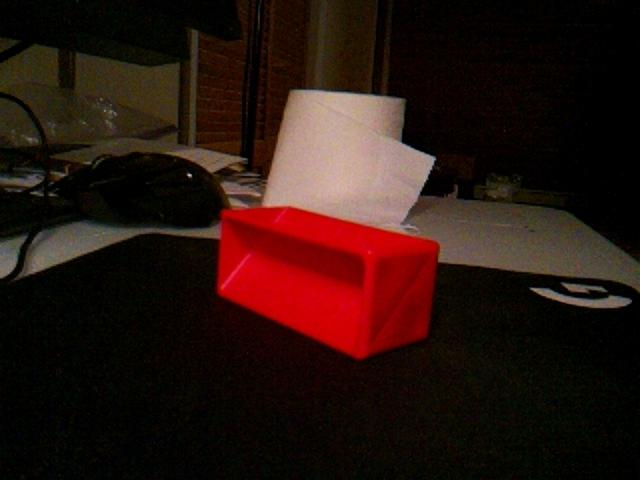red: (215, 205, 441, 361)
